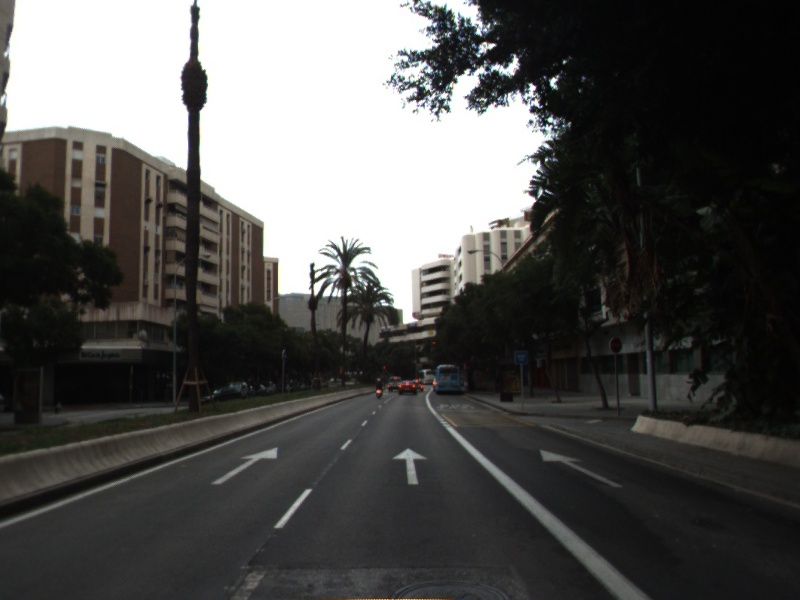STRAIGHT: (538, 448, 626, 490), (209, 444, 279, 486), (390, 446, 429, 487)
